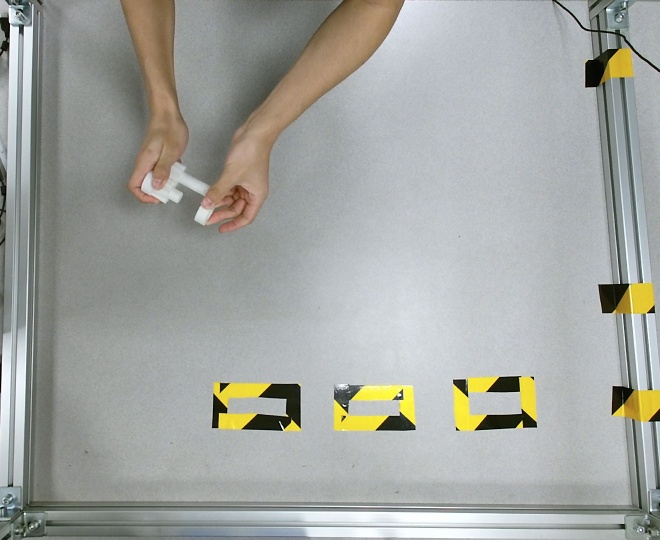stage_3: (140, 160, 210, 204)
